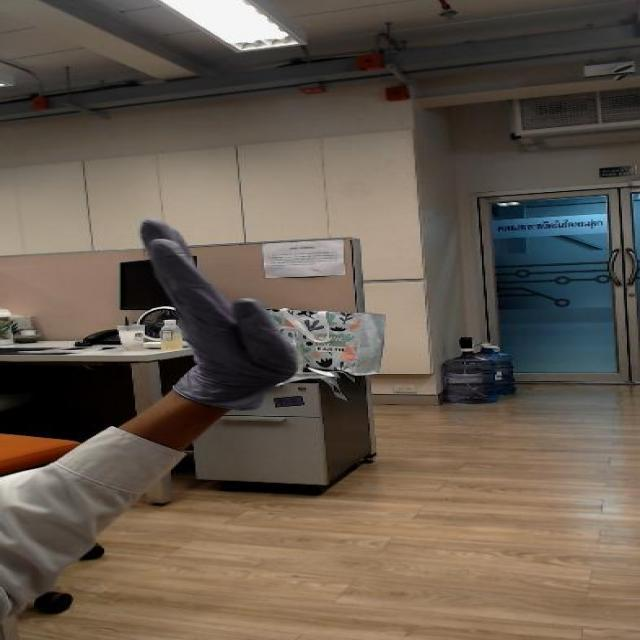with_gloves: (117, 208, 329, 358)
